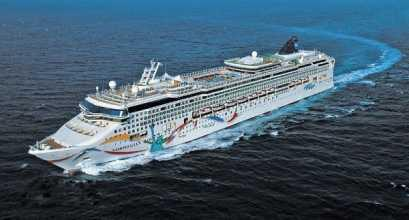youlun: (23, 36, 336, 176)
